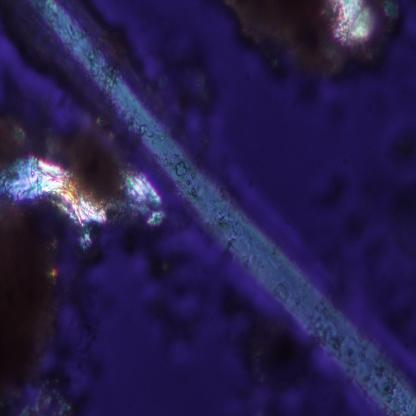Microfibre: (6, 1, 416, 415)
